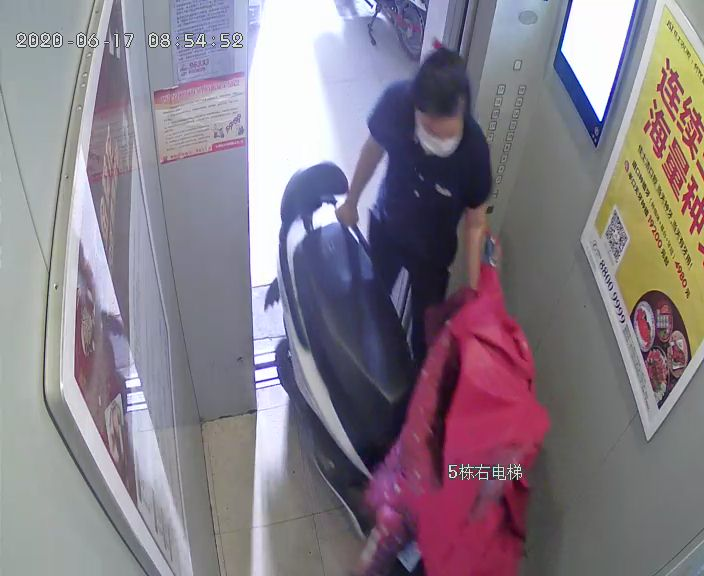Electric-bicycle: (267, 160, 542, 572)
